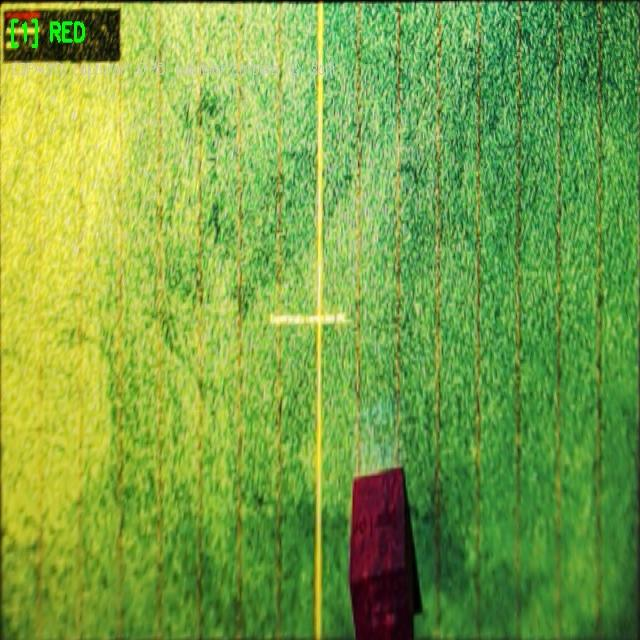red: (349, 467, 421, 639)
